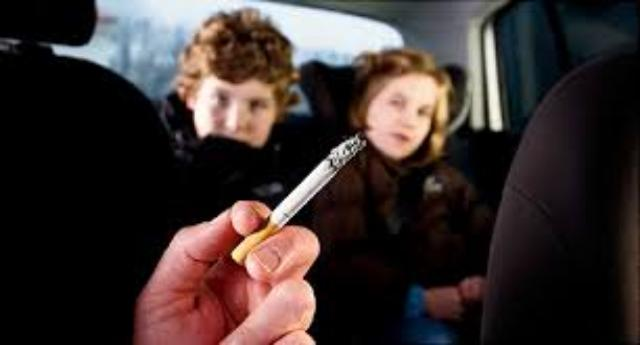Cigarette: (230, 134, 366, 266)
